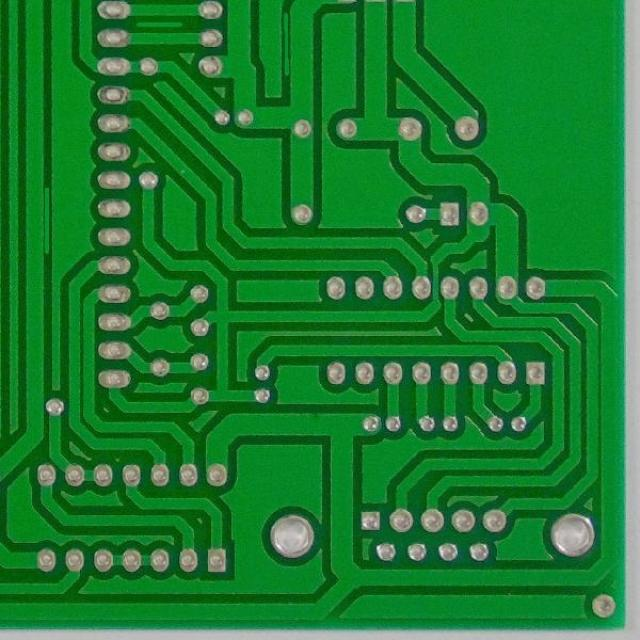spurious_copper: (36, 184, 59, 262), (275, 10, 298, 82), (134, 17, 187, 35)
